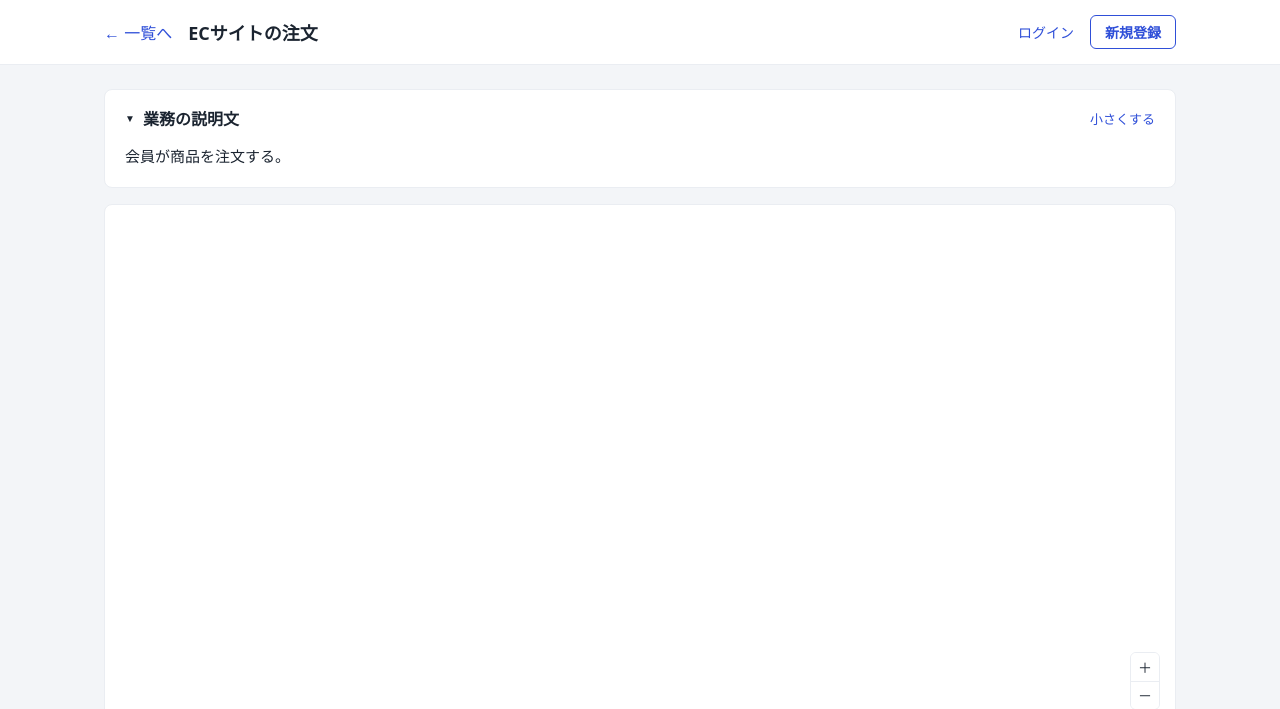
Test: SignupPage › 問題画面から新規登録すると、ログインした状態で問題画面に戻る
Click the button "新規登録" at (1133, 32), box [1090,15,1176,49]
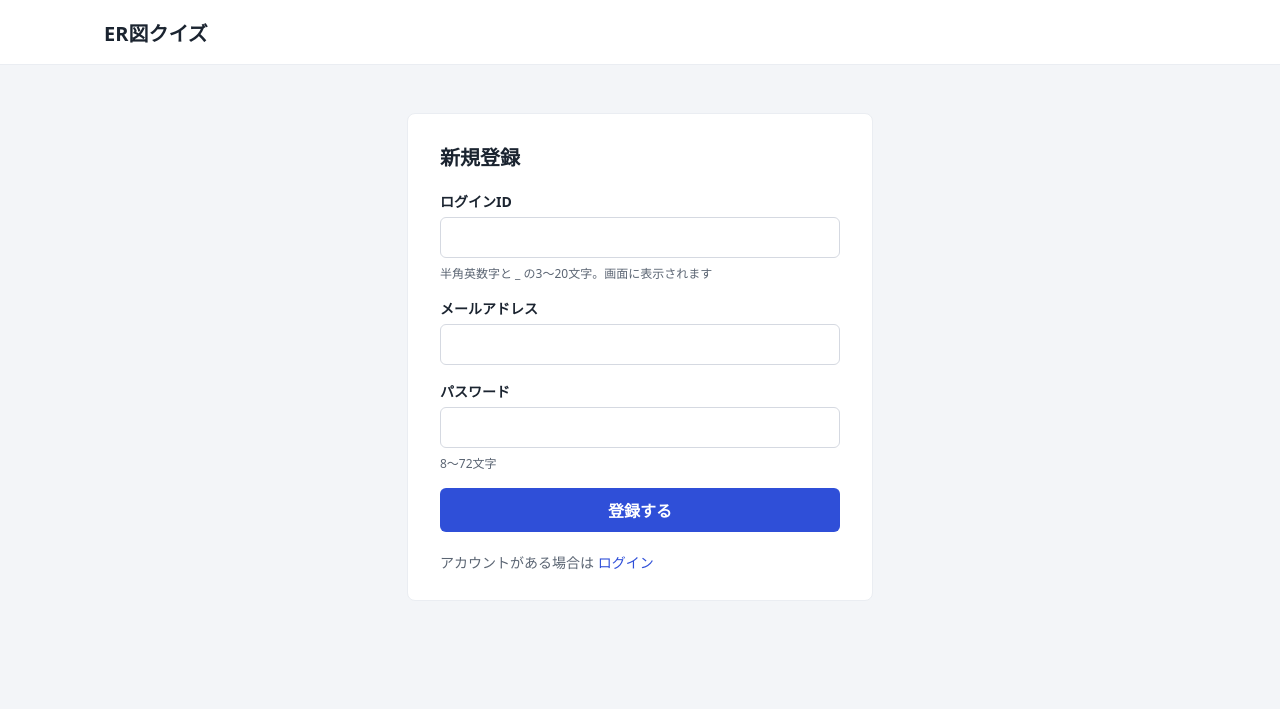
Type "hanako" into the field labelled "ログインID 半角英数字と _ の3〜20文字。画面に表示されます" at (640, 238), box [440,217,840,258]
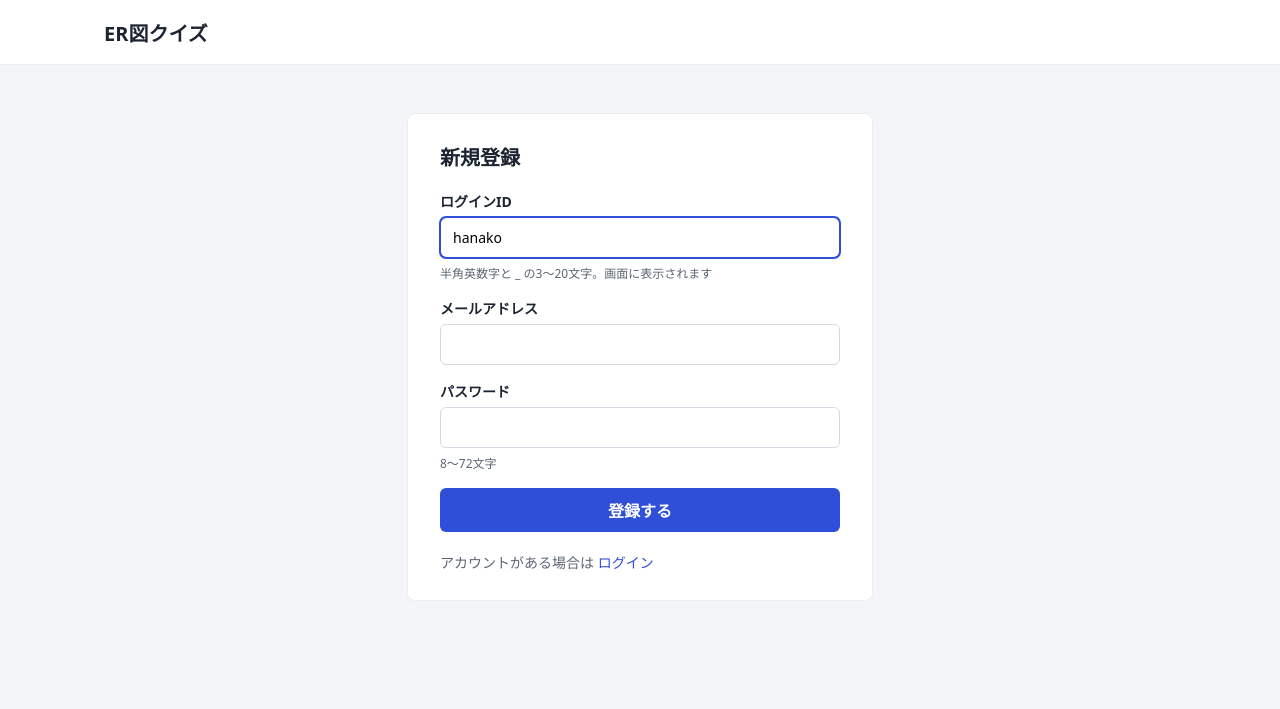
Type "hanako@example.com" into the field labelled "メールアドレス" at (640, 344), box [440,324,840,365]
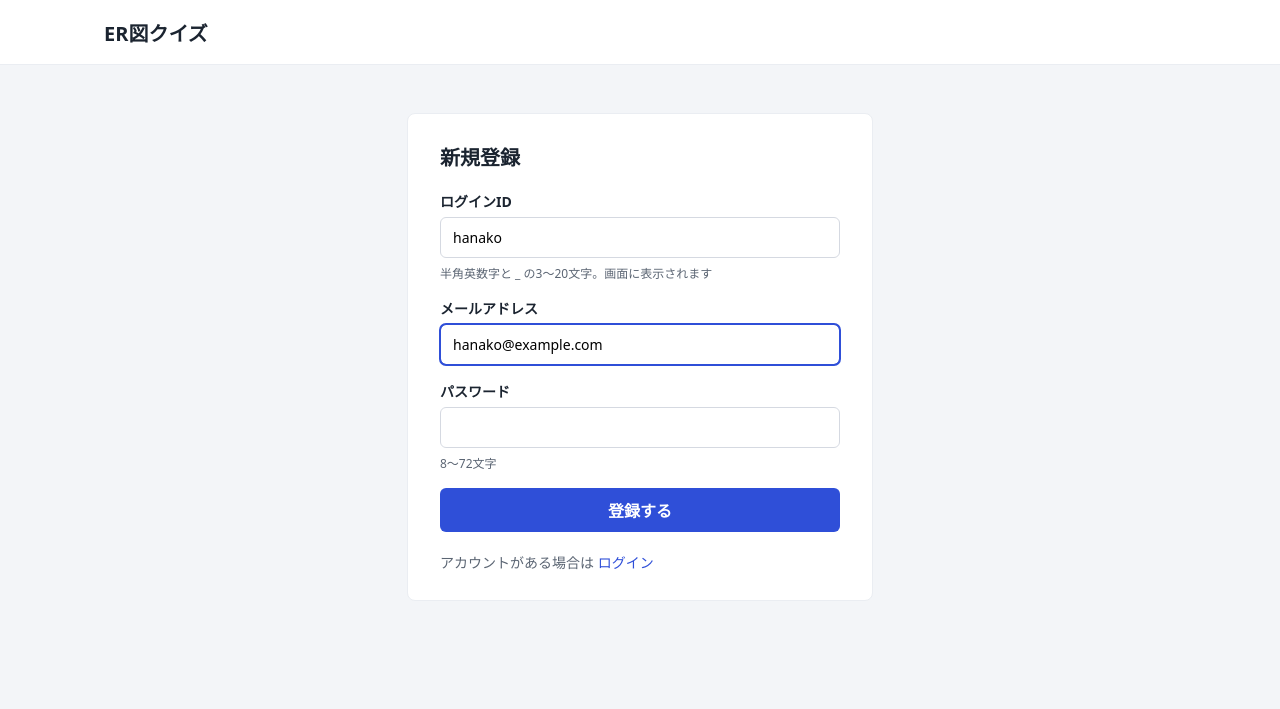
Type "password" into the password field labelled "パスワード 8〜72文字" at (640, 428), box [440,407,840,448]
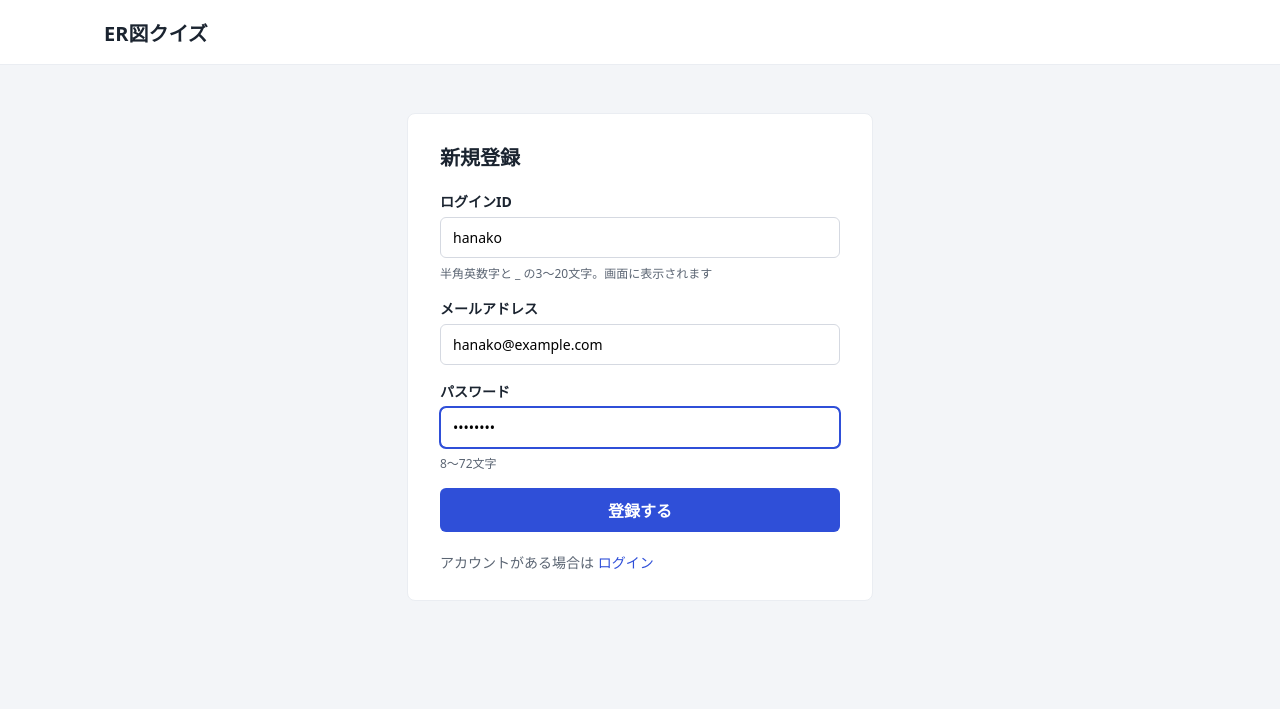
Click the button "登録する" at (640, 510), box [440,488,840,532]
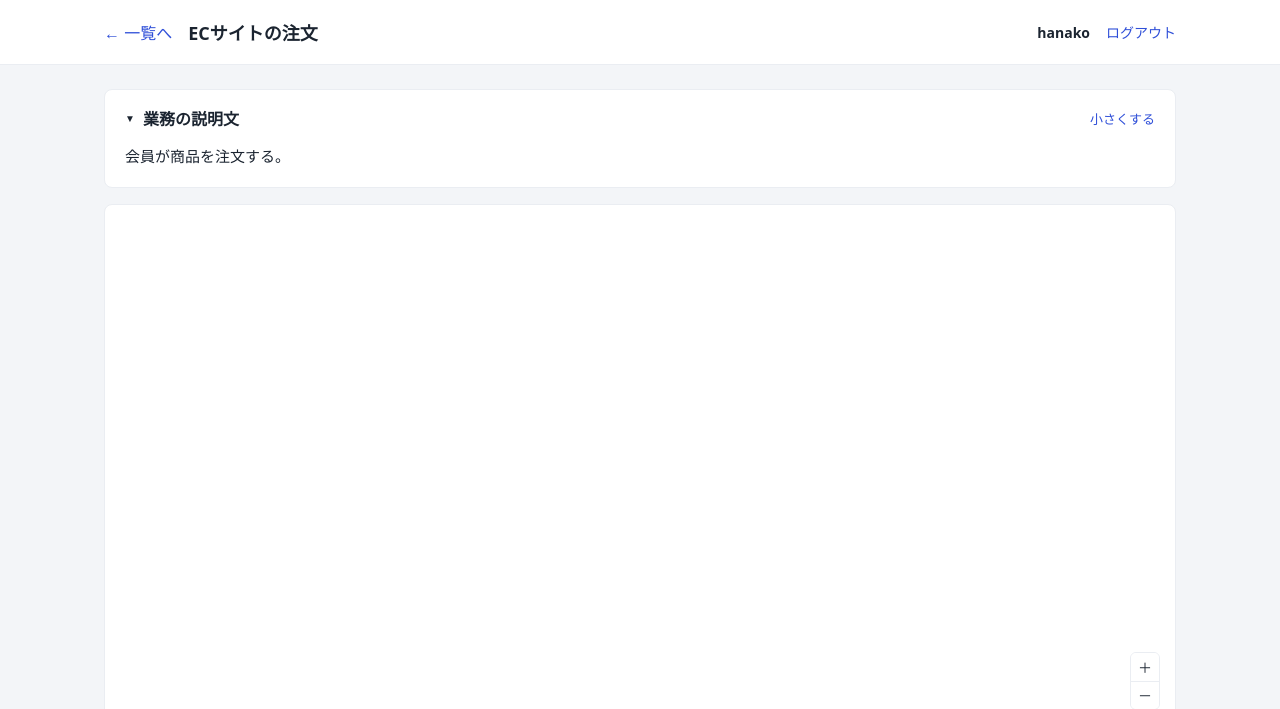
Expected: the heading "ECサイトの注文" is shown, [188,19,318,45]
Expected: the text "hanako" is shown, [1037,22,1090,42]
